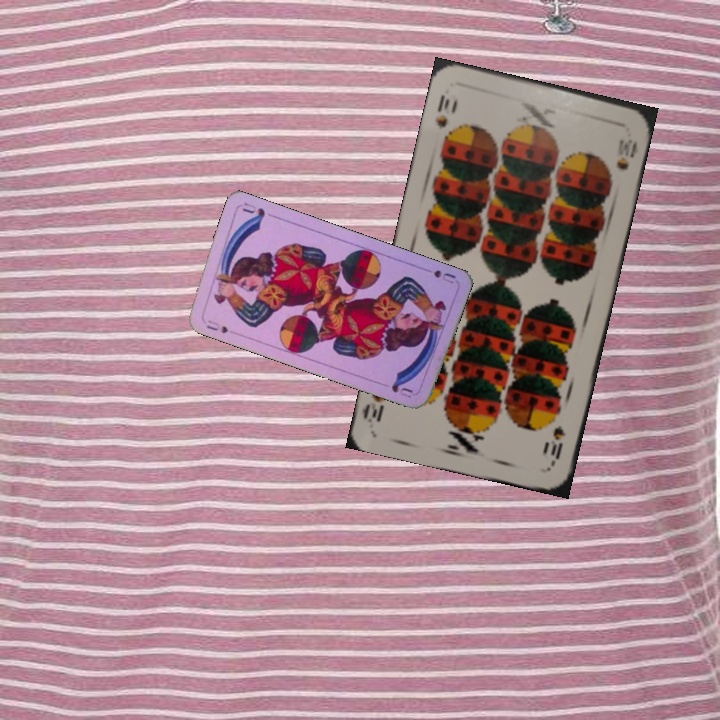S10: (541, 422, 568, 468), (431, 90, 461, 131)
SU: (199, 315, 231, 336), (429, 266, 458, 286)
